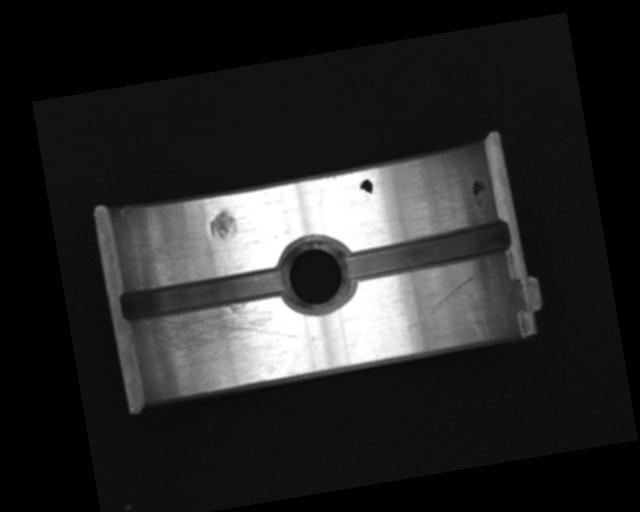blot: (469, 177, 490, 209), (357, 177, 376, 201)
bruise: (205, 207, 240, 243)
gap: (338, 217, 514, 284), (119, 263, 288, 325)
hole: (273, 232, 358, 319)
nick: (399, 272, 485, 332)
scratch: (138, 294, 301, 386)
